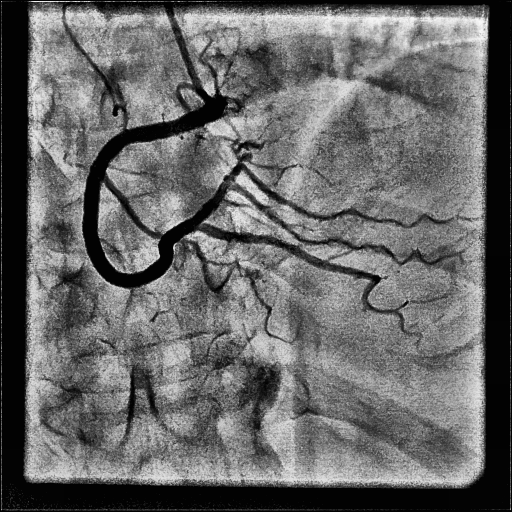pborca: (192, 163, 436, 229)
pda: (196, 222, 412, 336)
rca: (83, 102, 220, 288)
